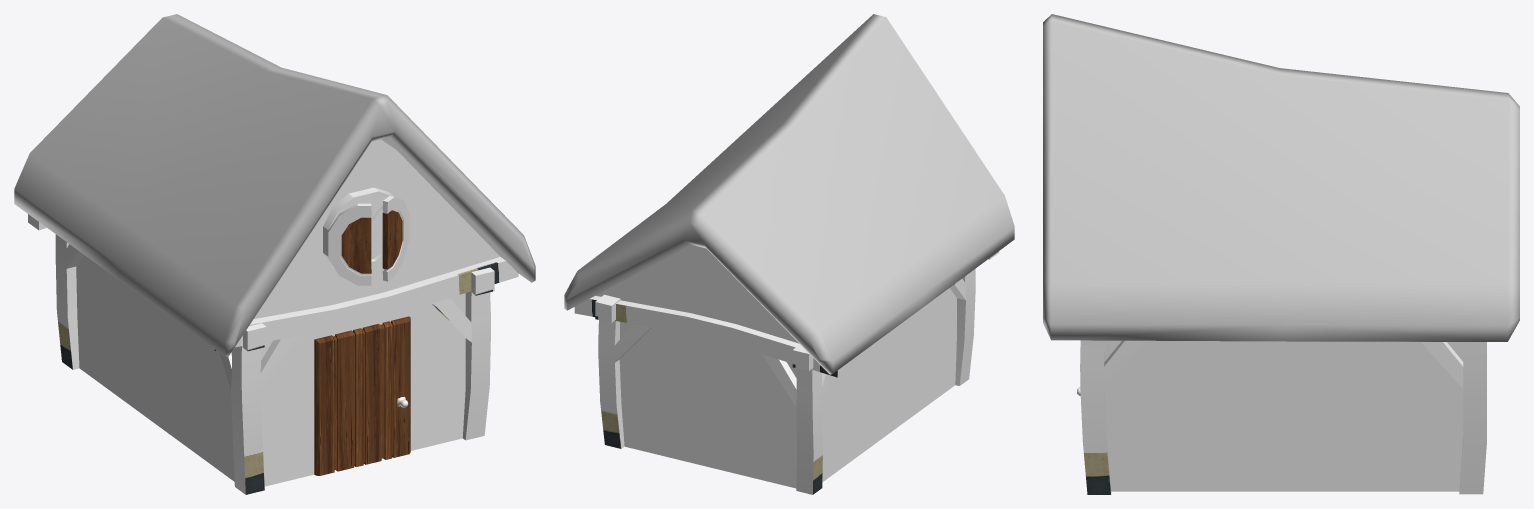
The model's file is House_Small_2.fbx.
The picture shows the model from 3 angles, left to right: view 1: azimuth 30°, elevation 25°; view 2: azimuth 150°, elevation 25°; view 3: azimuth 270°, elevation 25°; orthographic projection. The views are drawn at different scales.
Parts seen in each view (by area): view 1: House_Small_2; view 2: House_Small_2; view 3: House_Small_2.
Boxes of the visible parts, left/top/right/bottom form: House_Small_2: left=14, top=14, right=535, bottom=494; House_Small_2: left=564, top=14, right=1014, bottom=494; House_Small_2: left=1043, top=14, right=1519, bottom=494.
Size of the model in its own units: 409 by 478 by 500.
